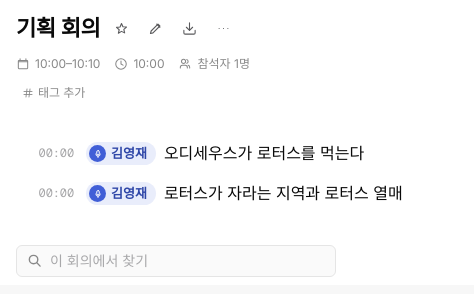
Test: 첫 매칭에서 이전을 누르면 마지막으로 순환한다
This screenshot has width=474, height=294.
Step 1. Type "로터스" into the search field labelled "이 회의에서 찾기" → (188, 261), box [50,250,327,271]
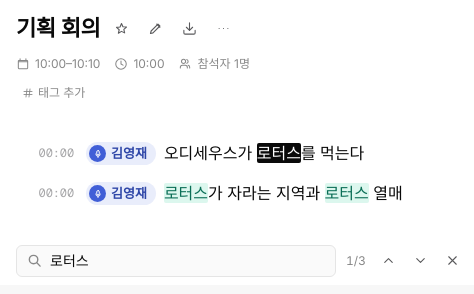
Step 2. Click the button named "이전 결과" → (389, 261), box [376,248,402,274]
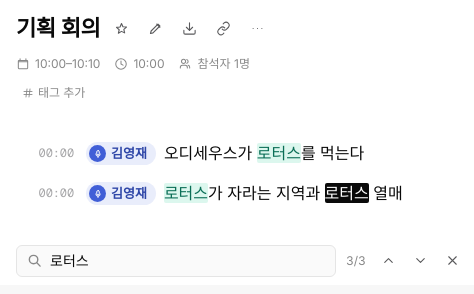
Check: the text "3/3" is shown, box [346,253,366,268]
